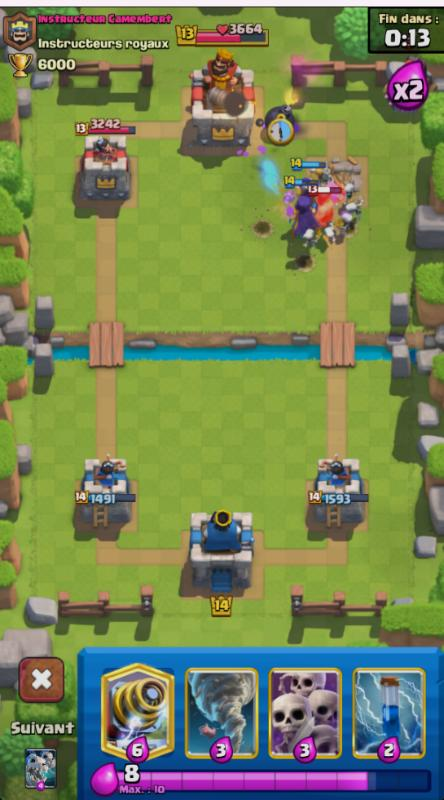squelette: (302, 226, 318, 248), (326, 229, 339, 247), (344, 182, 355, 199)
